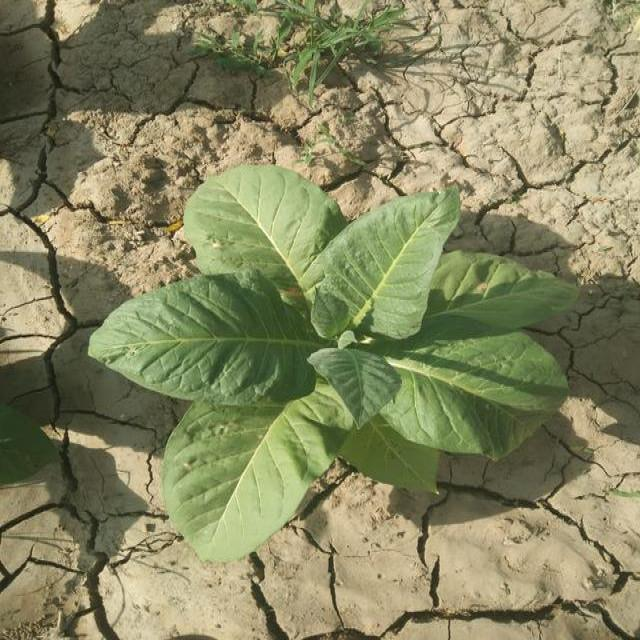crop: (86, 164, 574, 556)
